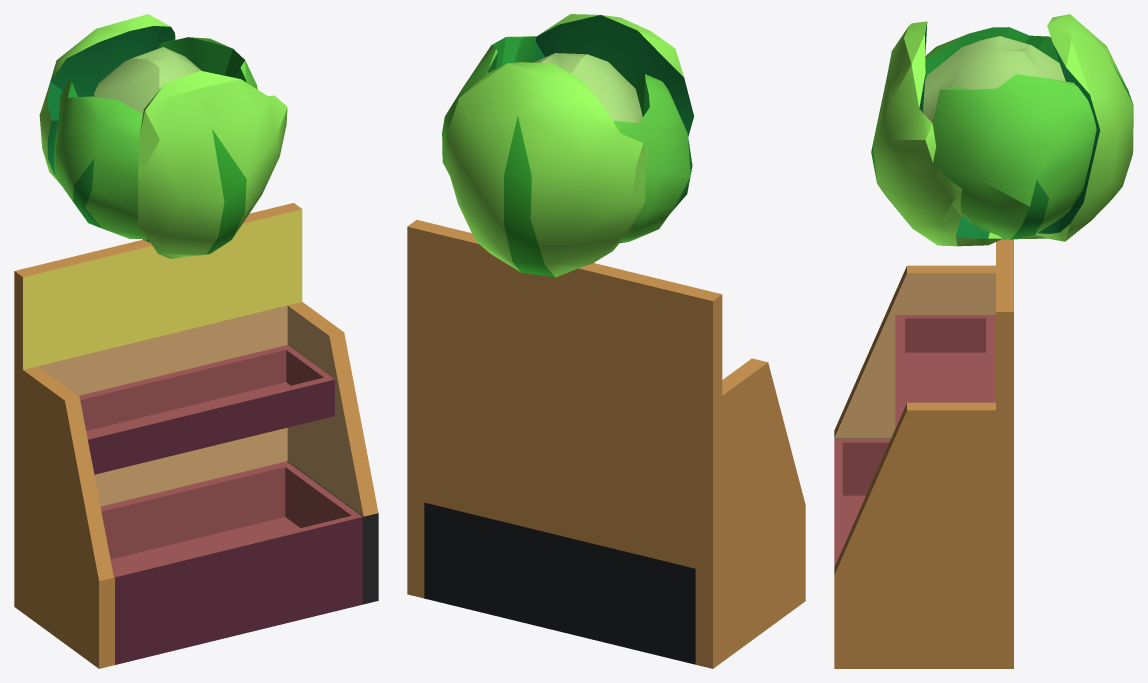
Rendered from Shelve_Lettuce.fbx.
3 renders of one model, left to right at view 1: azimuth 30°, elevation 25°; view 2: azimuth 150°, elevation 25°; view 3: azimuth 270°, elevation 25°, orthographic. The views are drawn at different scales.
Visible parts, largest first — view 1: Shelve_Lettuce; view 2: Shelve_Lettuce; view 3: Shelve_Lettuce.
Boxes of the visible parts, x1,y1,x2,y2 form: Shelve_Lettuce: [14, 14, 378, 668]; Shelve_Lettuce: [407, 14, 805, 668]; Shelve_Lettuce: [834, 14, 1133, 668].
Size of the model in its own units: 441 by 805 by 385.
